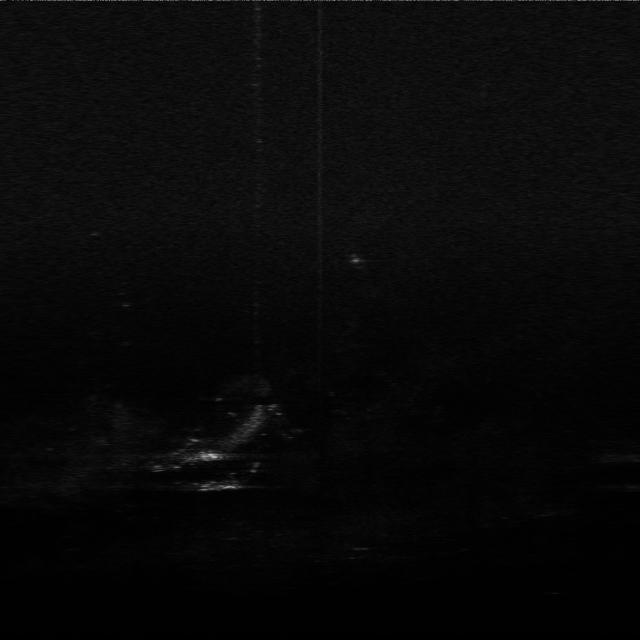rov: (194, 447, 224, 463)
